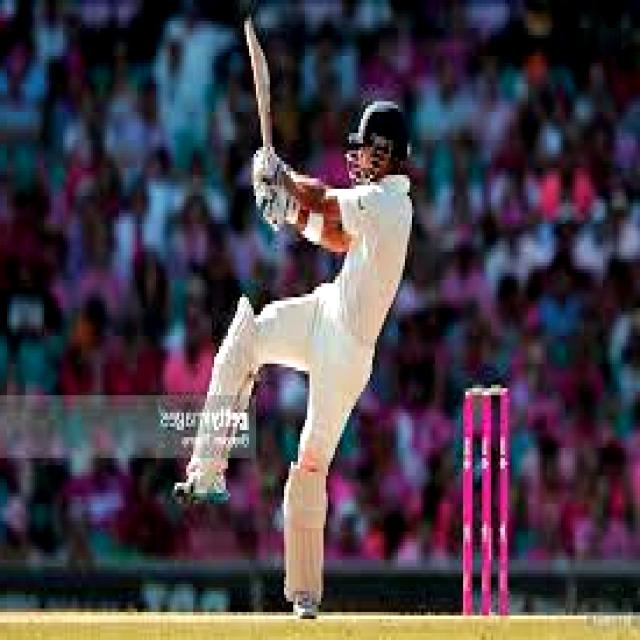toe: (240, 17, 264, 64)
